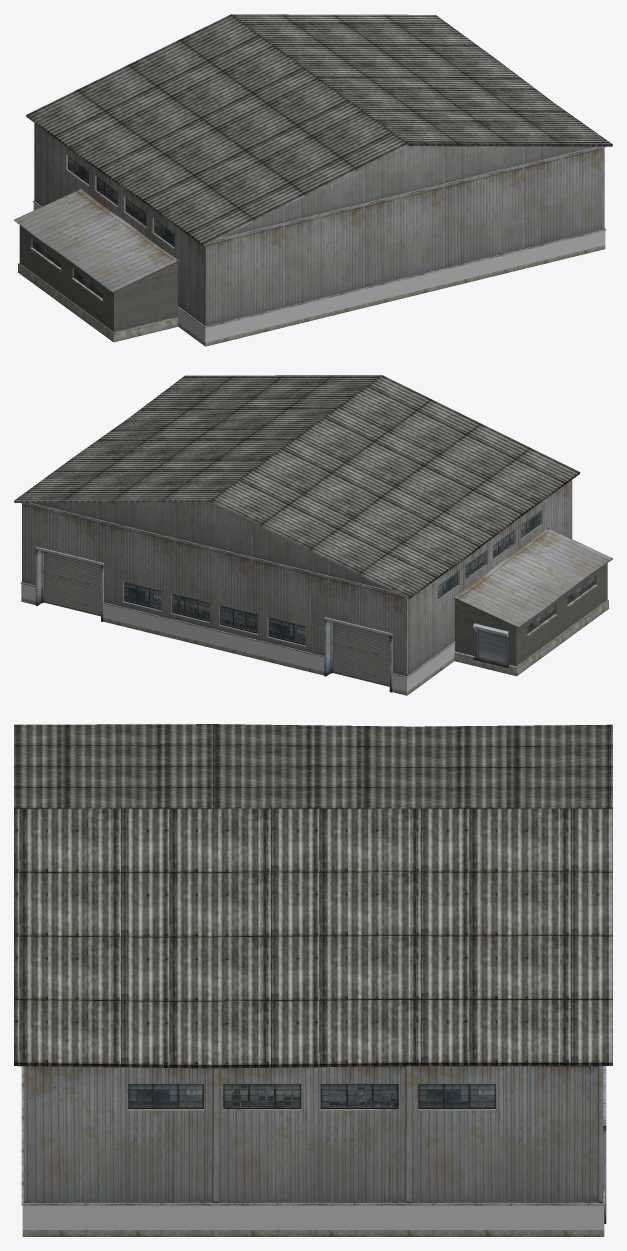
3 views of the same model, one above another, from view 1: azimuth 30°, elevation 25°; view 2: azimuth 150°, elevation 25°; view 3: azimuth 270°, elevation 25° (orthographic). The views are drawn at different scales.
Visible parts, largest first — view 1: IB16; view 2: IB16; view 3: IB16.
Part boxes in pixels (box(x1,y1,x2,y2)): IB16: box(14, 14, 612, 346); IB16: box(14, 375, 612, 695); IB16: box(14, 724, 612, 1236).
Size of the model in its own units: 47.34 by 14.92 by 30.75.
